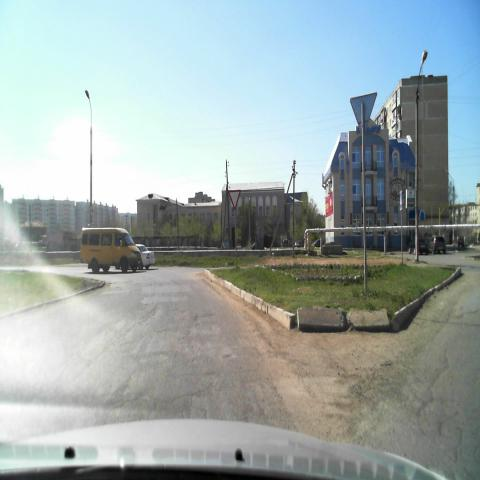2_4: (228, 189, 241, 211)
